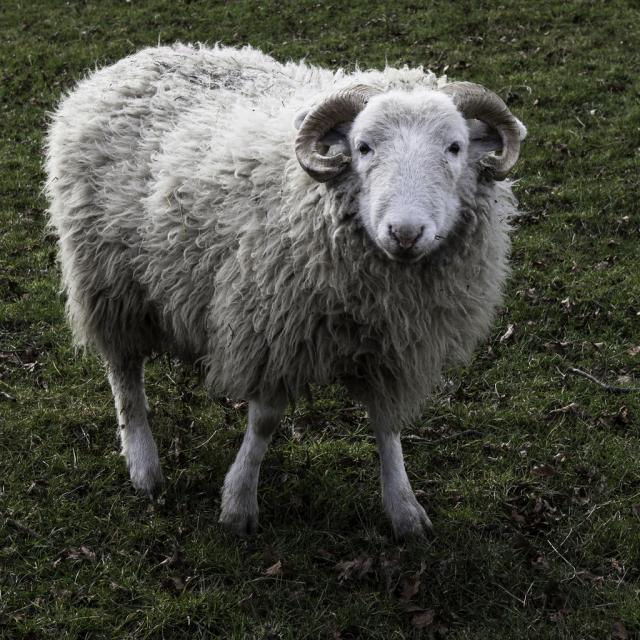Sheep: (29, 68, 523, 544)
